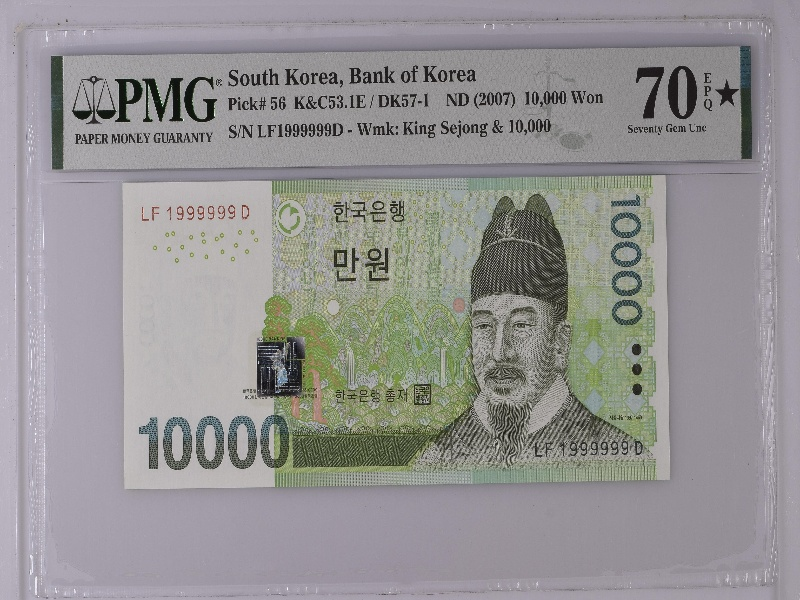papernote: (119, 178, 674, 483)
